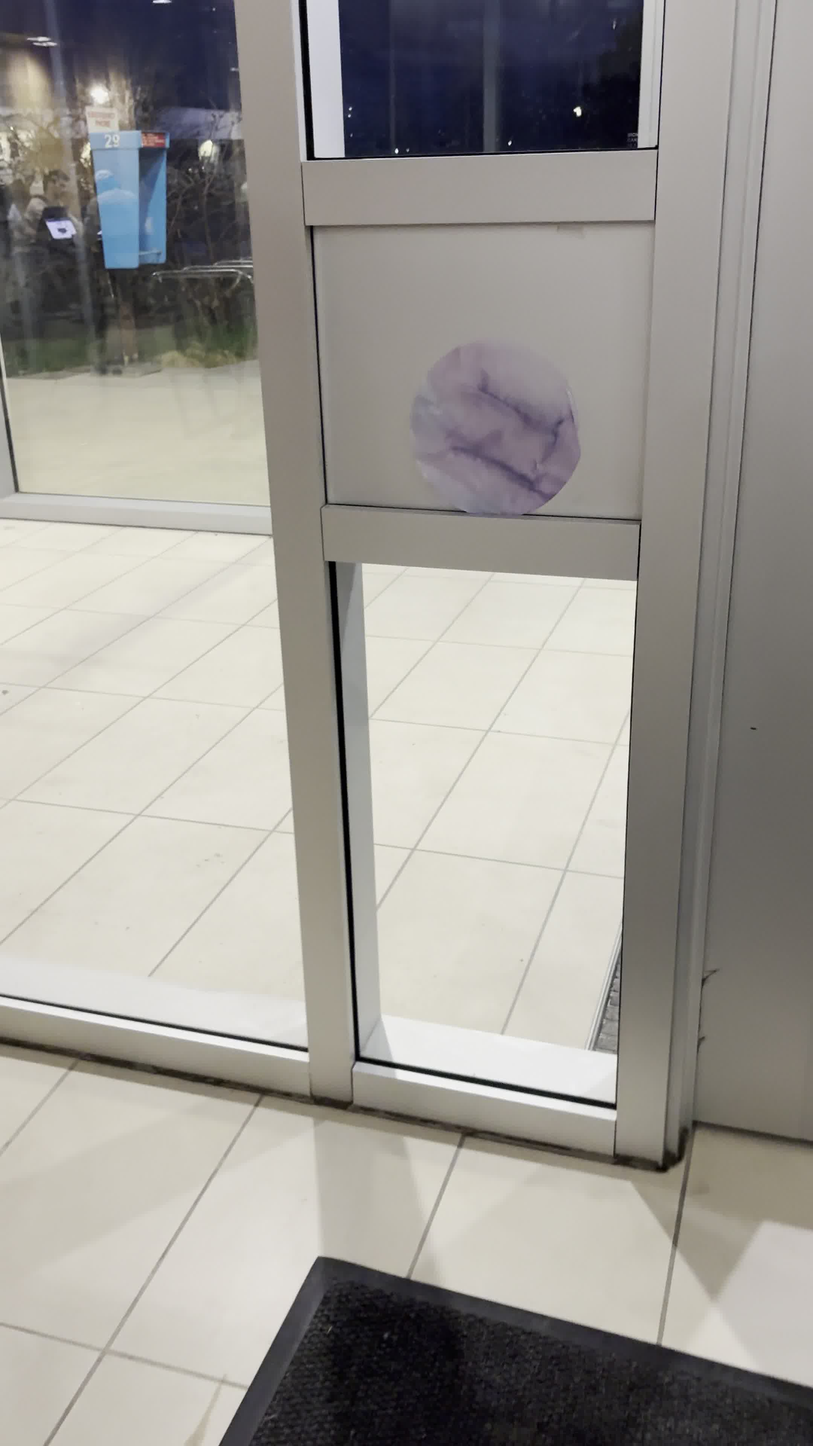Target: (408, 335, 583, 519)
